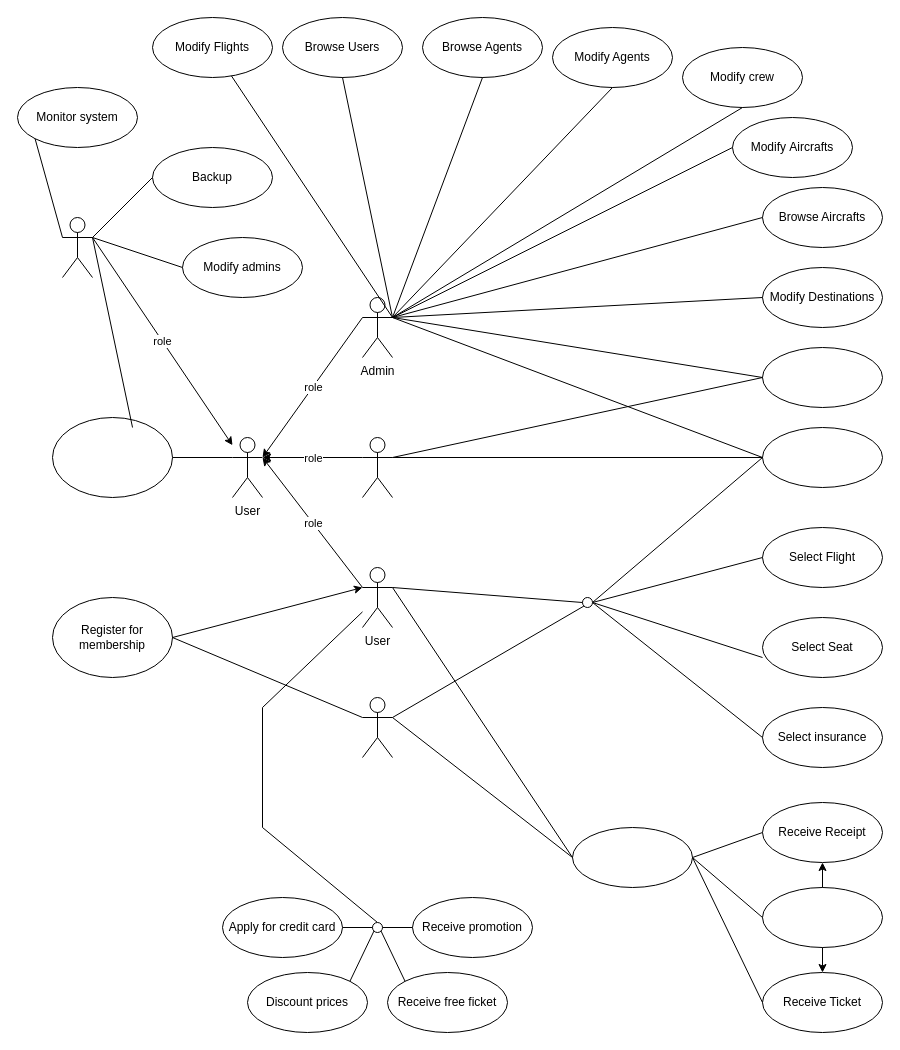
The diagram is 900 pixels wide and 1050 high, and some of its shapes have lost their labels. Each missing label, with the centre of its shape:
"Agent" belongs at (377,467).
"Browse flights" belongs at (822,457).
"Browse passengers" belongs at (822,377).
"Customer" belongs at (632,857).
"Login/Logout" belongs at (112,457).
"Make/Cancel Payment" belongs at (822,917).
"System admin" belongs at (77,247).
"Unregistered User" belongs at (377,727).
